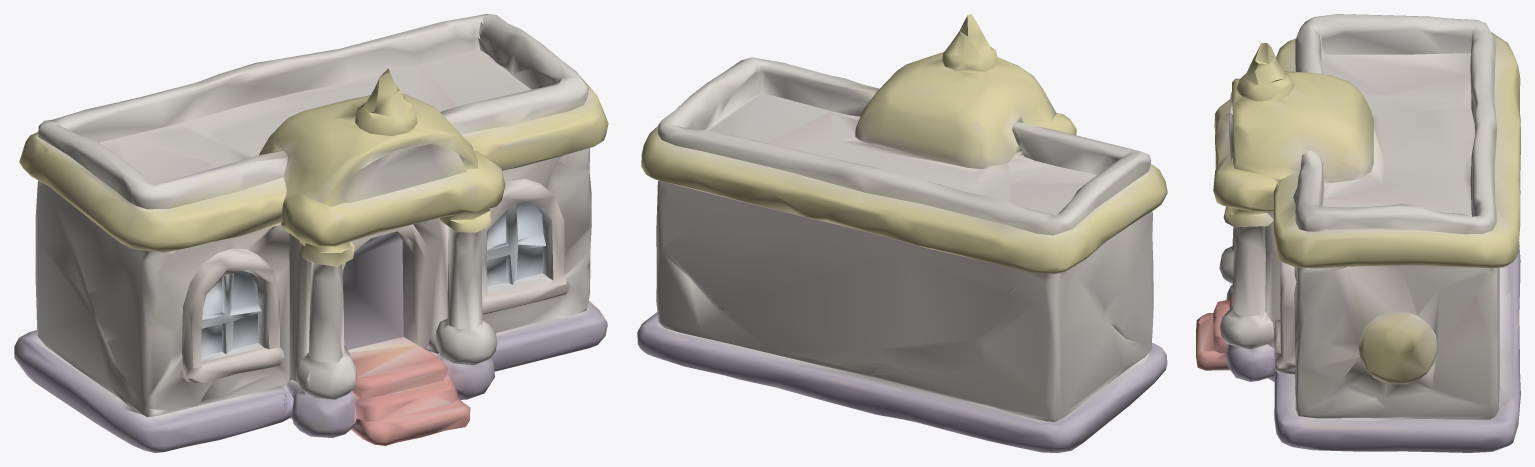
File: shop_ext_3_low.glb
3 renders of one model, left to right at view 1: azimuth 30°, elevation 25°; view 2: azimuth 150°, elevation 25°; view 3: azimuth 270°, elevation 25°, orthographic. The views are drawn at different scales.
Parts seen in each view (by area): view 1: tripo_node_3f4afc96-e9c1-49dd-87ca-c260205712f0.001; view 2: tripo_node_3f4afc96-e9c1-49dd-87ca-c260205712f0.001; view 3: tripo_node_3f4afc96-e9c1-49dd-87ca-c260205712f0.001.
Boxes of the visible parts, <box> form: tripo_node_3f4afc96-e9c1-49dd-87ca-c260205712f0.001: <box>14,14,608,452</box>; tripo_node_3f4afc96-e9c1-49dd-87ca-c260205712f0.001: <box>637,14,1167,452</box>; tripo_node_3f4afc96-e9c1-49dd-87ca-c260205712f0.001: <box>1196,14,1520,452</box>.
Bounding box in the file's own units: 9 × 5.98 × 5.68.
